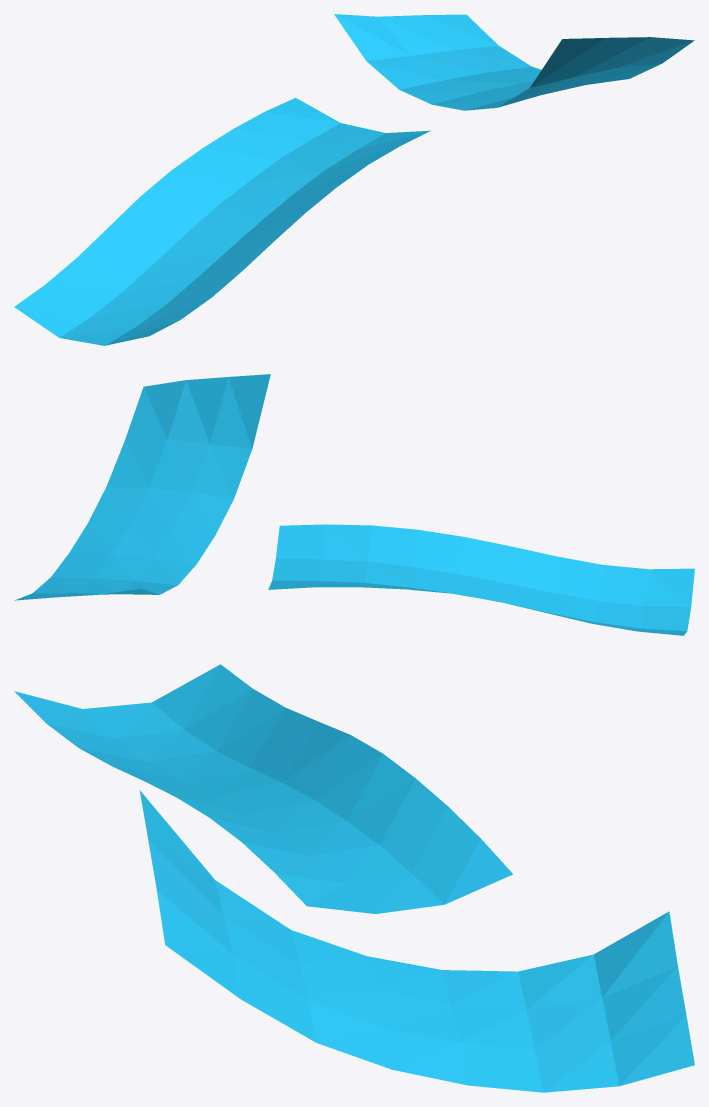
File: hand0423g_thumb_to_palm_aligned.obj
3 views of the same model, one above another, from view 1: azimuth 30°, elevation 25°; view 2: azimuth 150°, elevation 25°; view 3: azimuth 270°, elevation 25° (orthographic). The views are drawn at different scales.
Parts seen in each view (by area): view 1: finger_to_palm_thumb; view 2: finger_to_palm_thumb; view 3: finger_to_palm_thumb.
Boxes of the visible parts, <box> form: finger_to_palm_thumb: <box>14,14,694,345</box>; finger_to_palm_thumb: <box>14,374,694,635</box>; finger_to_palm_thumb: <box>14,664,694,1092</box>.
Size of the model in its own units: 2.1 by 0.5478 by 1.35.
